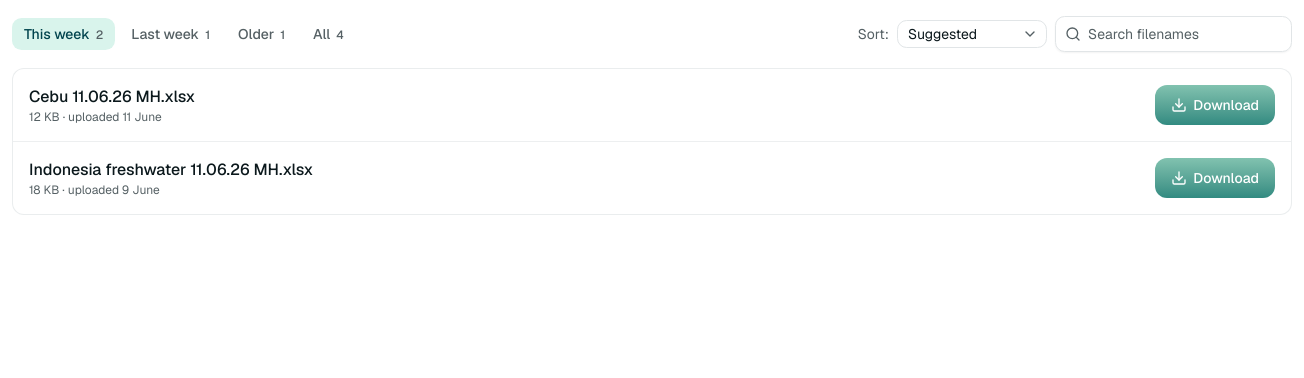
Test: <StocklistFileList /> › 'All' tab shows everything
Click the button "All4".
click(328, 34)  # box [301, 18, 356, 50]
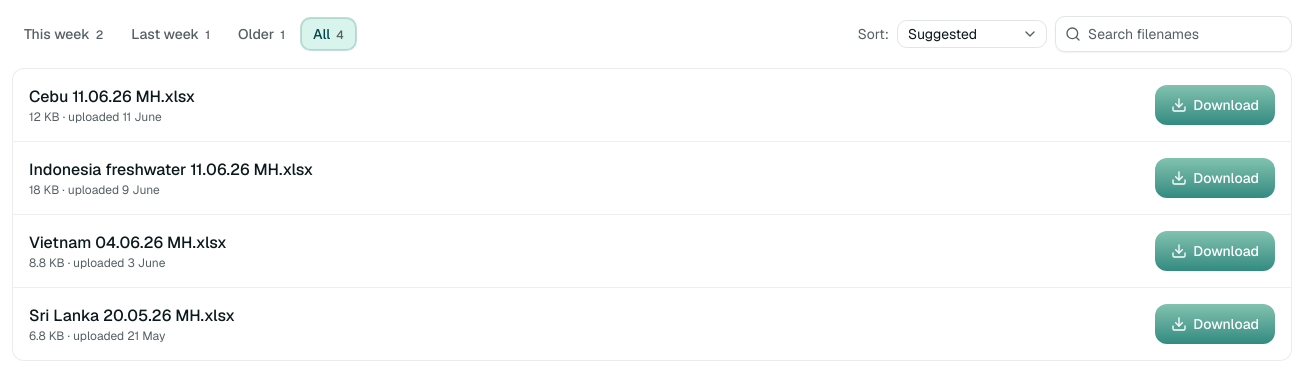
Check: the text "Cebu 11.06.26 MH.xlsx" is shown, box [29, 85, 195, 109]
Check: the text "Vietnam 04.06.26 MH.xlsx" is shown, box [29, 231, 227, 255]
Check: the text "Sri Lanka 20.05.26 MH.xlsx" is shown, box [29, 304, 235, 328]
